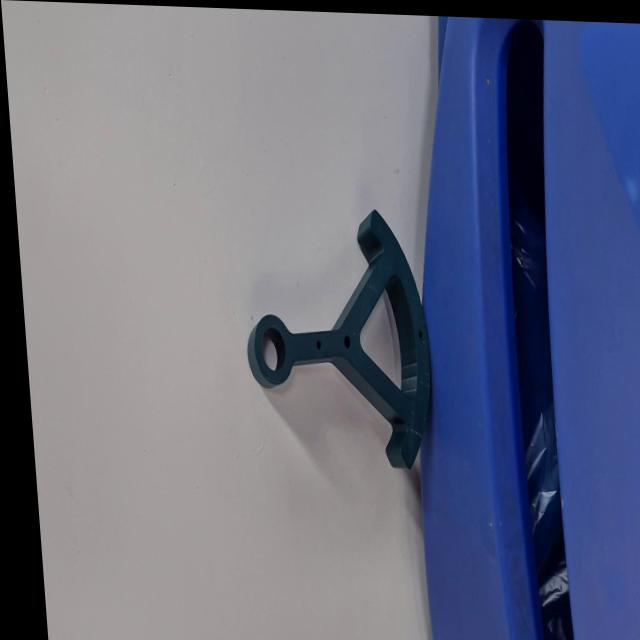haptic: (234, 201, 439, 473)
